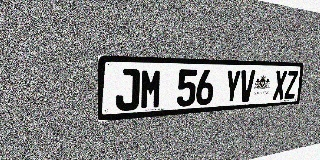5: (177, 69, 197, 107)
6: (196, 70, 215, 106)
J: (115, 69, 140, 111)
M: (140, 69, 163, 110)
V: (239, 70, 255, 102)
X: (272, 70, 287, 100)
Y: (224, 70, 241, 104)
Z: (284, 71, 298, 99)
